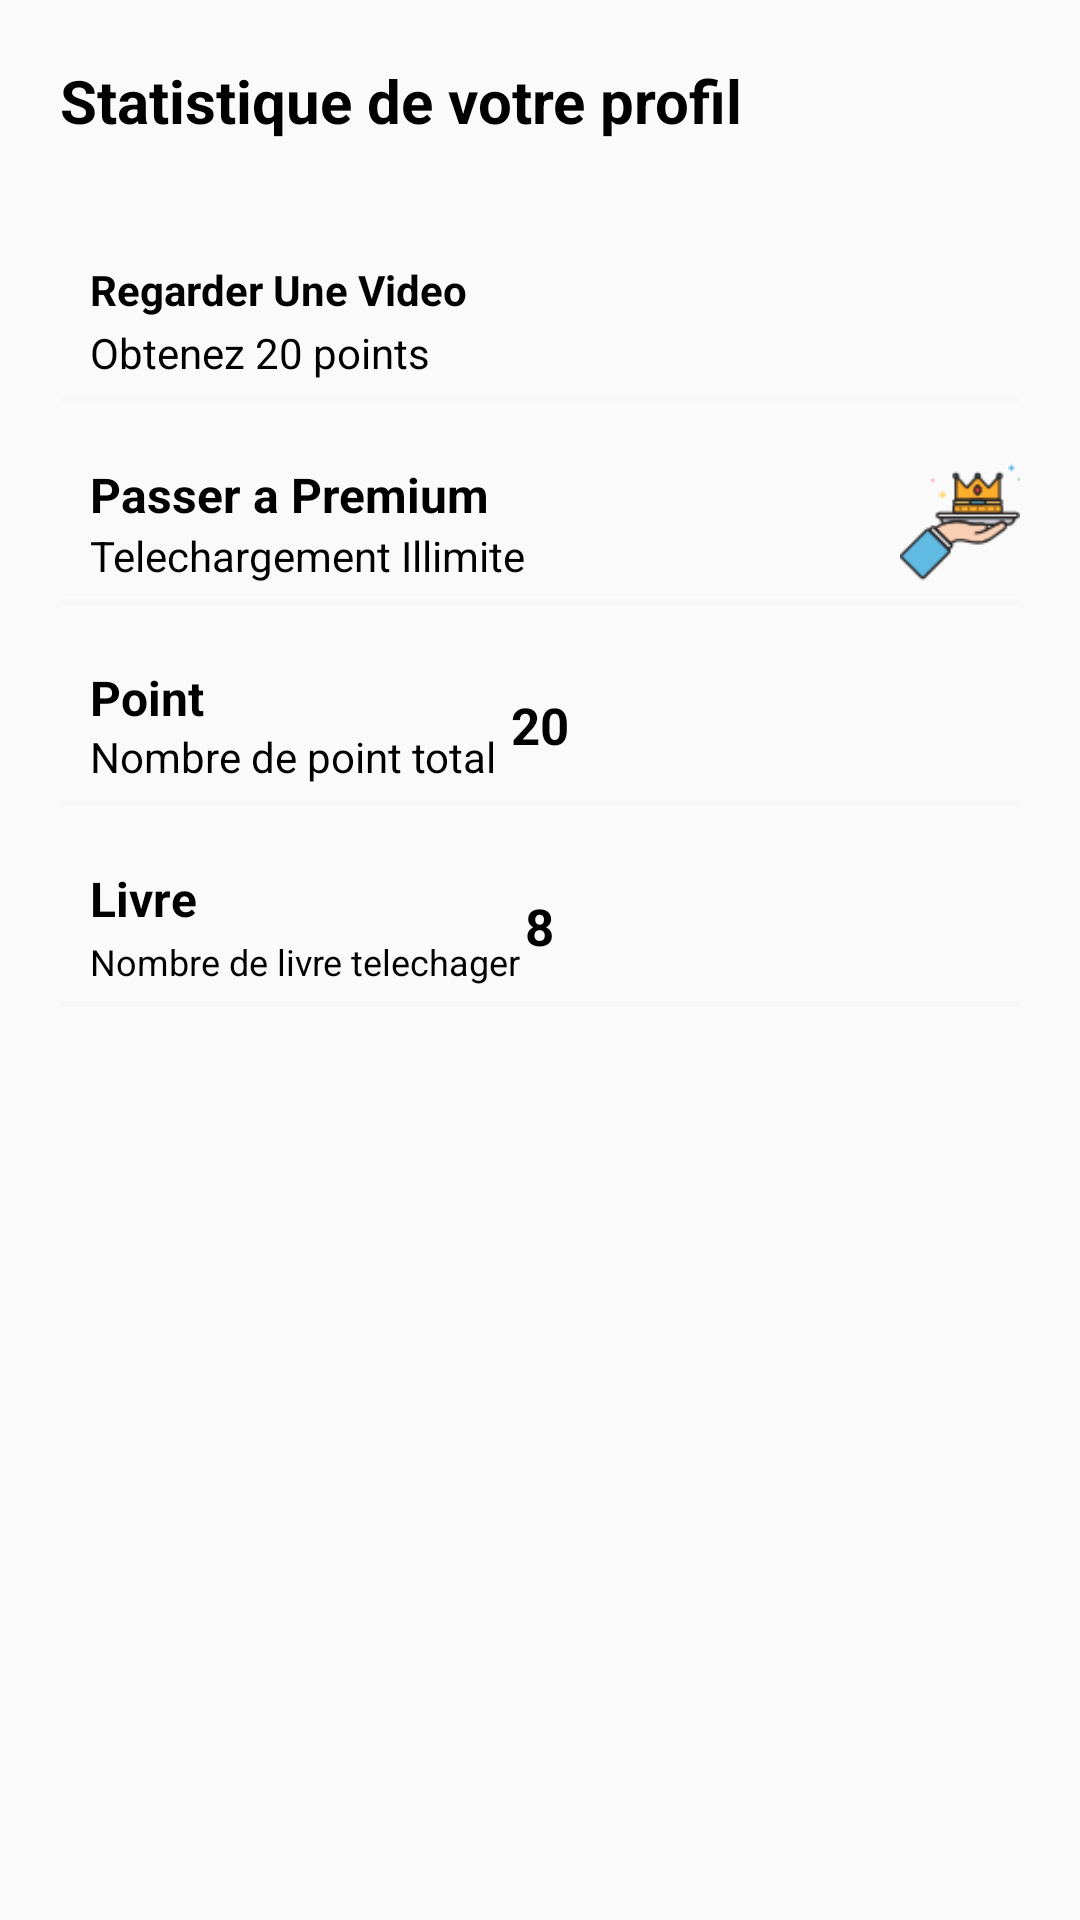

Icon bounding boxes for this 1080w x 1920h phone screenshot, format detection(x1, y1, x2, y2):
premium: detection(900, 464, 1020, 580)
